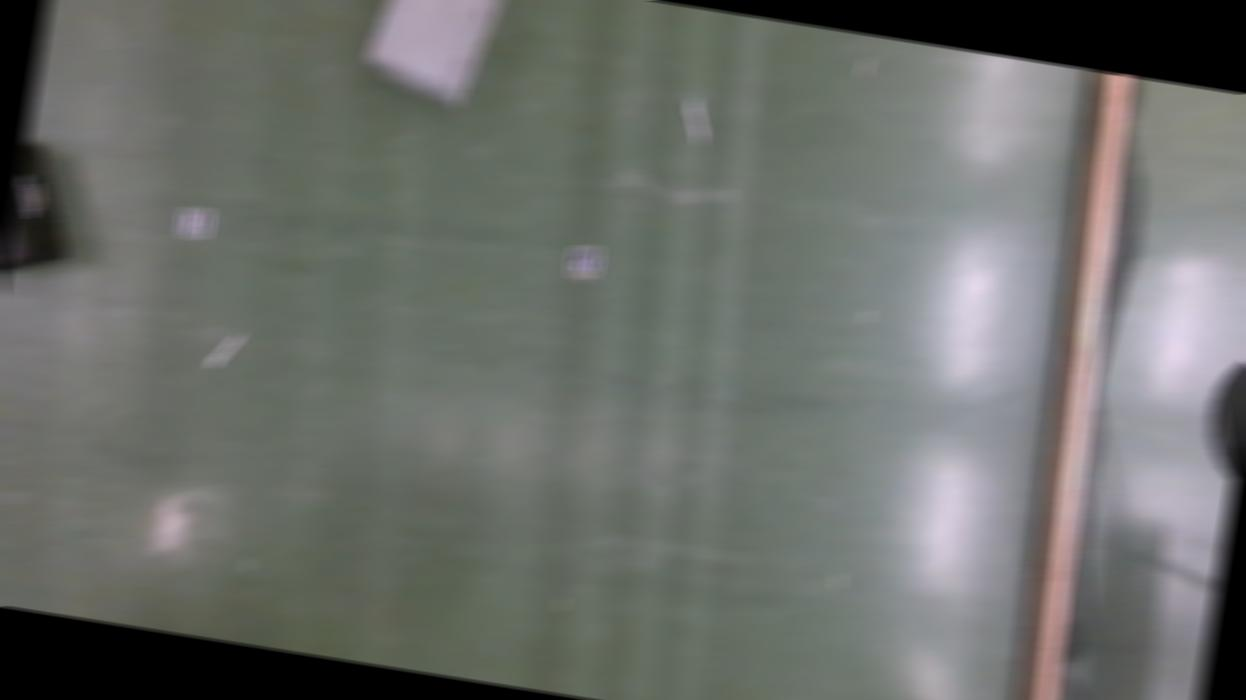probes: (681, 99, 712, 148), (208, 330, 243, 372)
rako: (356, 0, 506, 116), (1, 142, 85, 281)
